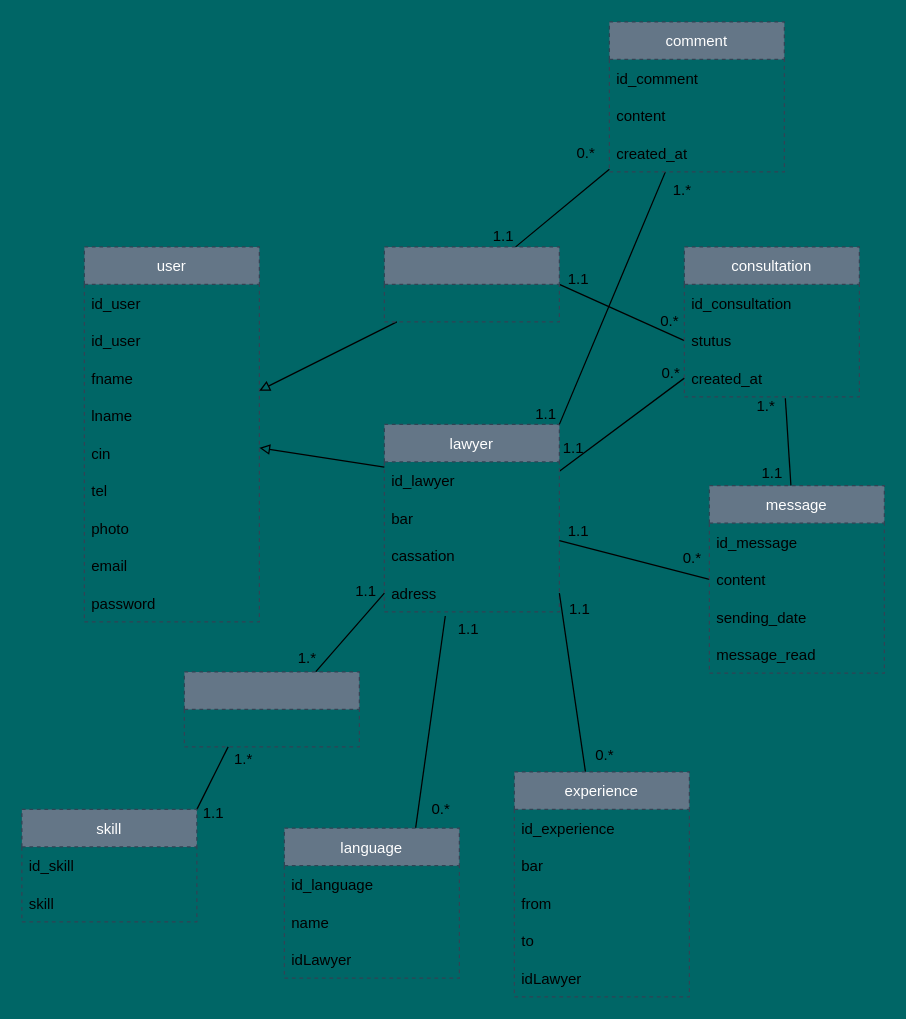
Some shapes in this 906 by 1019 pixel diagram are drawn without their labels. The box of each missing label's shape, as (x1, y1, x2, y2) in pixels:
client: (383, 246, 559, 322)
specialised: (183, 671, 359, 747)
